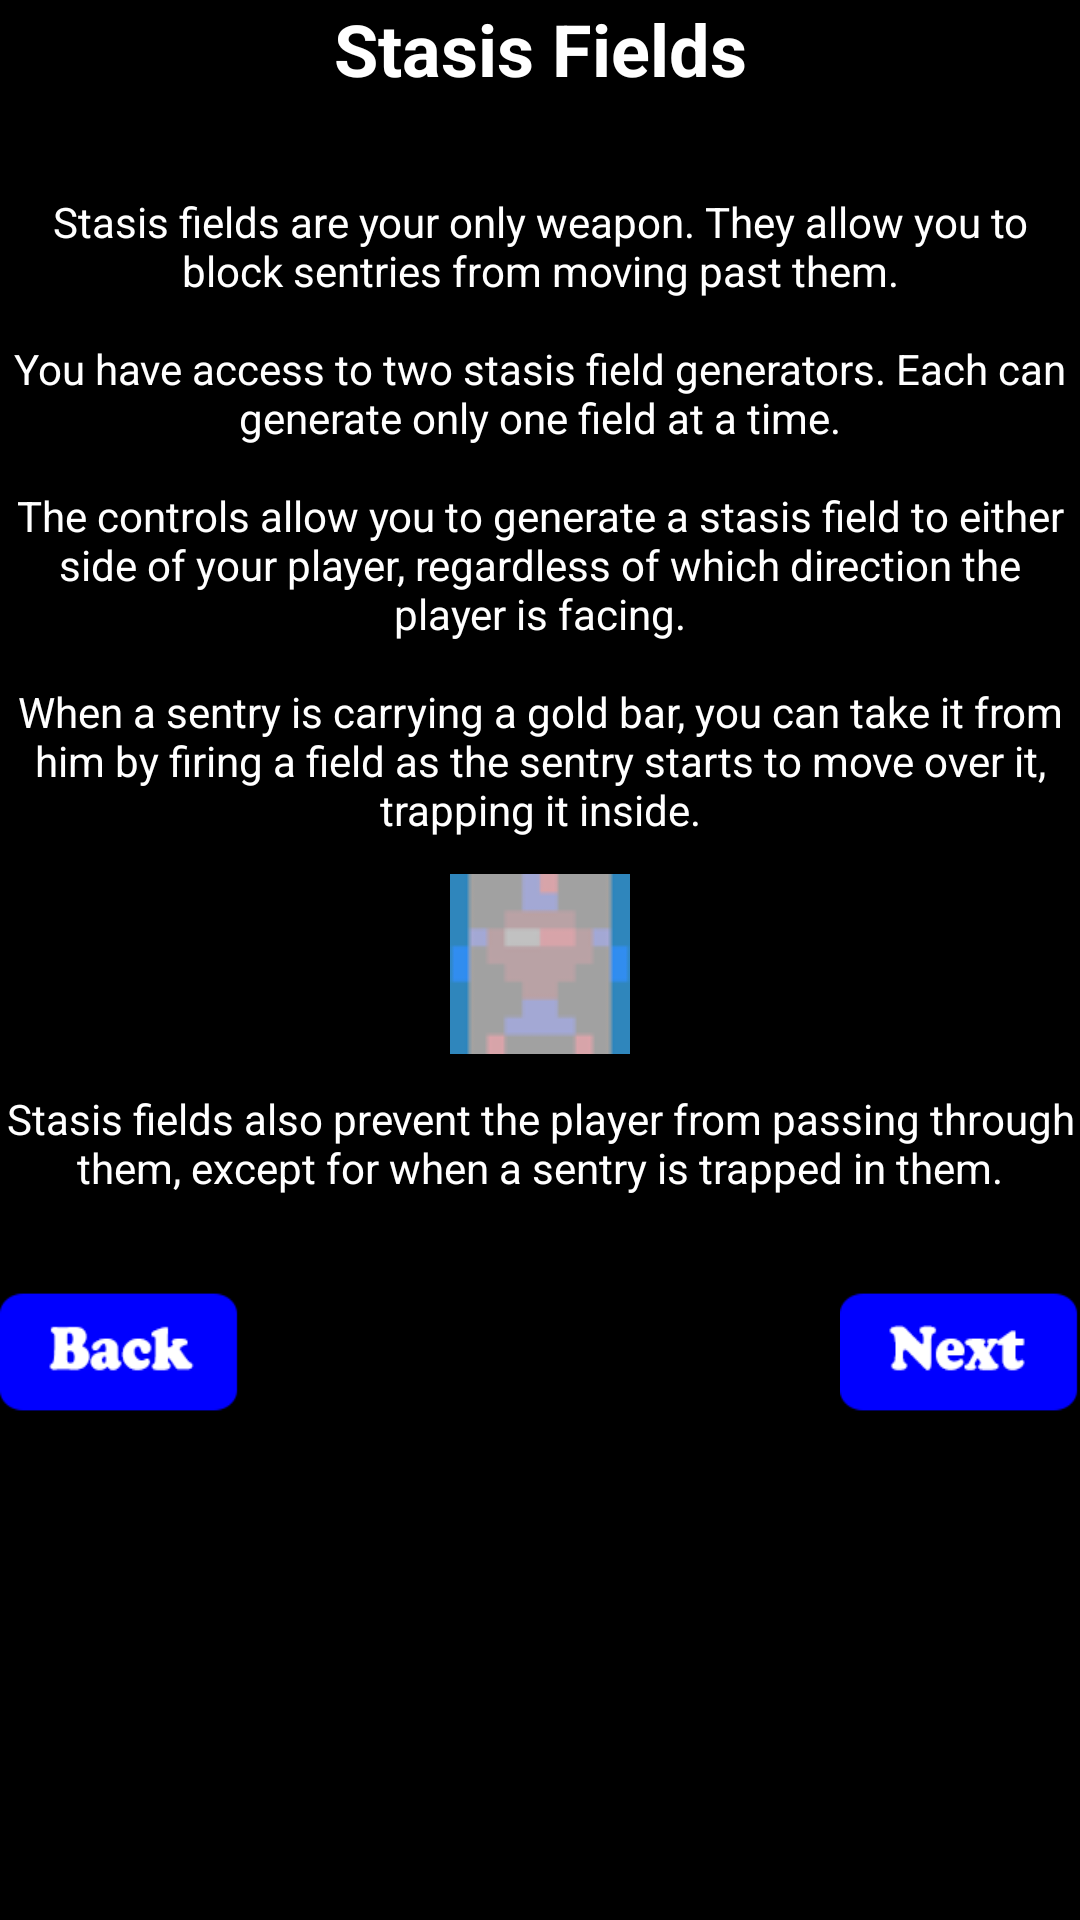

Named icons in this screenshot (1080px×1920px) and their centers, point (x, y):
guard trapped: point (540, 964)
